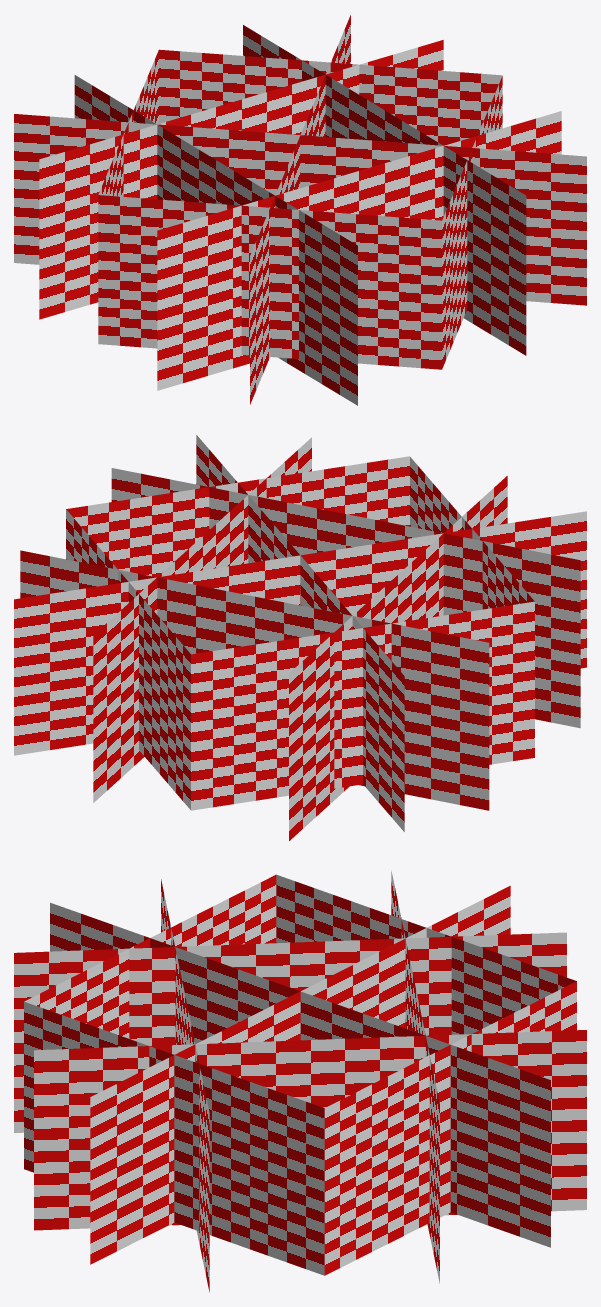
The model's file is grass.dae.
3 views of the same model, one above another, from view 1: azimuth 30°, elevation 25°; view 2: azimuth 150°, elevation 25°; view 3: azimuth 270°, elevation 25° (orthographic). The views are drawn at different scales.
Visible parts, largest first — view 1: Plane; view 2: Plane; view 3: Plane.
Part boxes in pixels (left/top/right/bottom): Plane: left=14, top=15, right=586, bottom=405; Plane: left=14, top=435, right=586, bottom=840; Plane: left=14, top=870, right=586, bottom=1292.
Size of the model in its own units: 1.24 by 1.24 by 0.43.
1 material, 1 textured.
